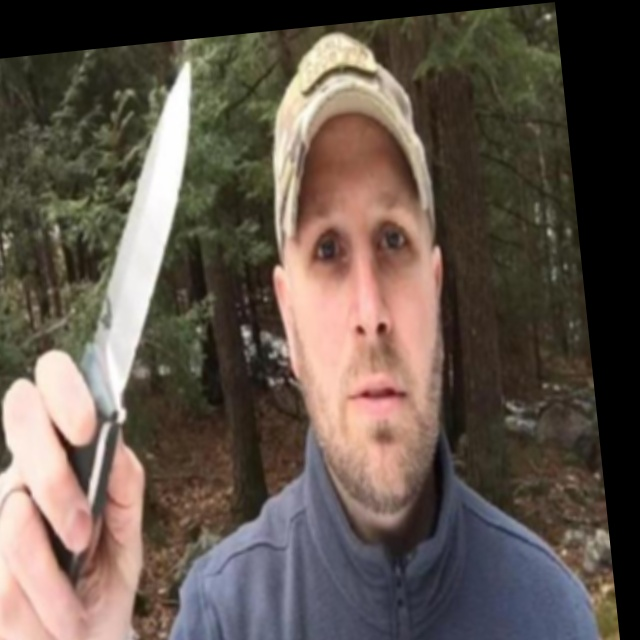Sharp-Object: (0, 63, 249, 640)
